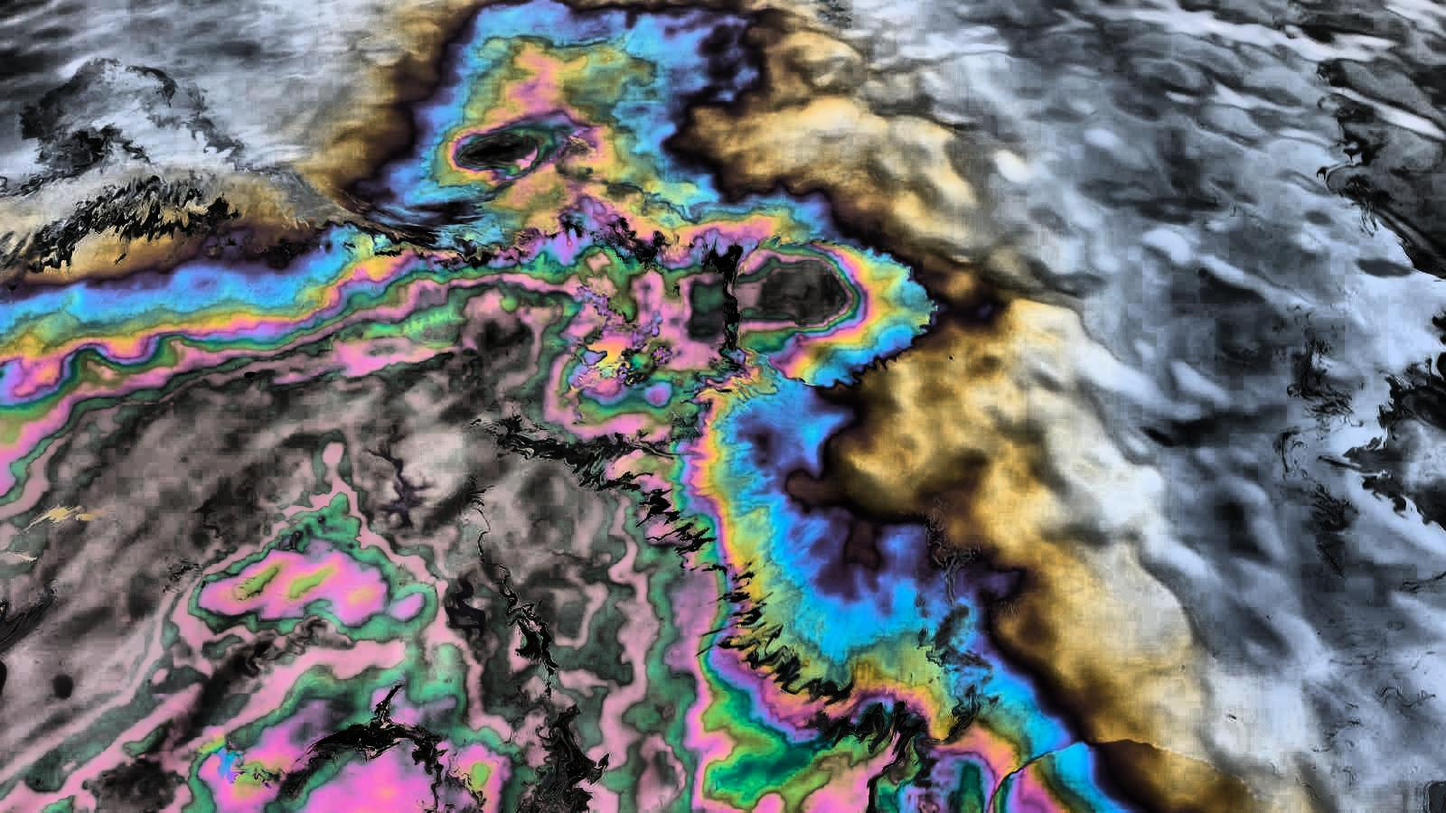rainbow: (0, 2, 1083, 812)
